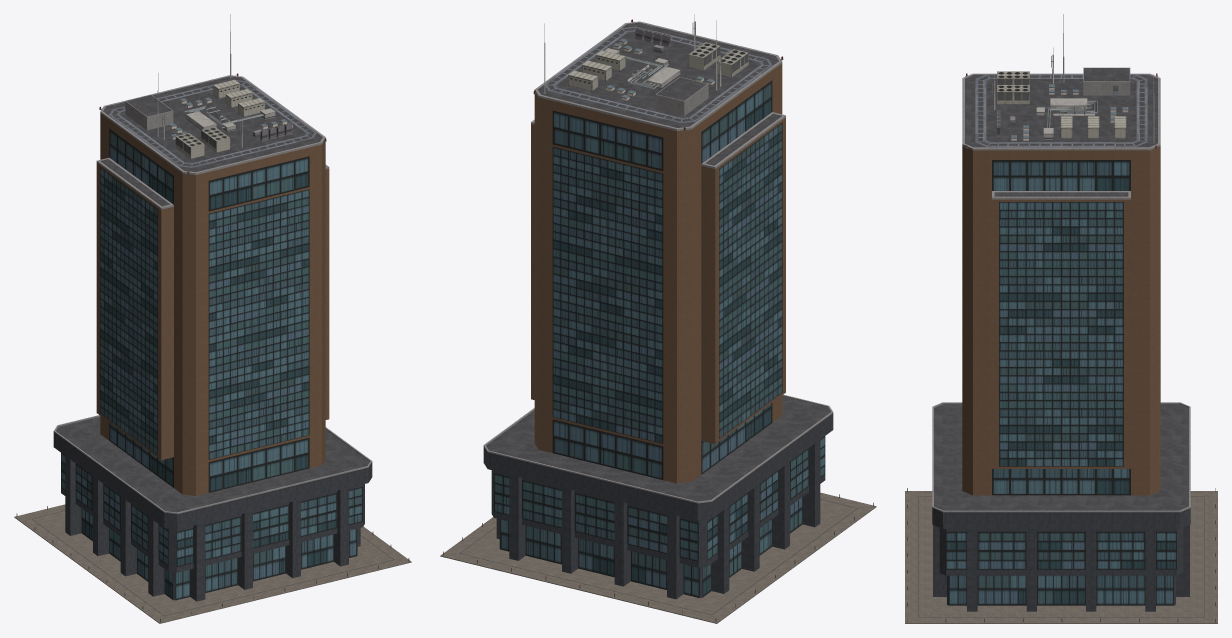
File: jctlowBld50_Bb.fbx
3 views of the same model, side by side, from view 1: azimuth 30°, elevation 25°; view 2: azimuth 150°, elevation 25°; view 3: azimuth 270°, elevation 25° (orthographic). The views are drawn at different scales.
Parts seen in each view (by area): view 1: jctlowBld50_Bb; view 2: jctlowBld50_Bb; view 3: jctlowBld50_Bb.
Part boxes in pixels (bbox=[...]): jctlowBld50_Bb: bbox=[14, 14, 411, 623]; jctlowBld50_Bb: bbox=[440, 14, 876, 623]; jctlowBld50_Bb: bbox=[905, 14, 1217, 623].
Size of the model in its own units: 6000 by 10910 by 6000.
Materials: 9 (9 with a texture image).
